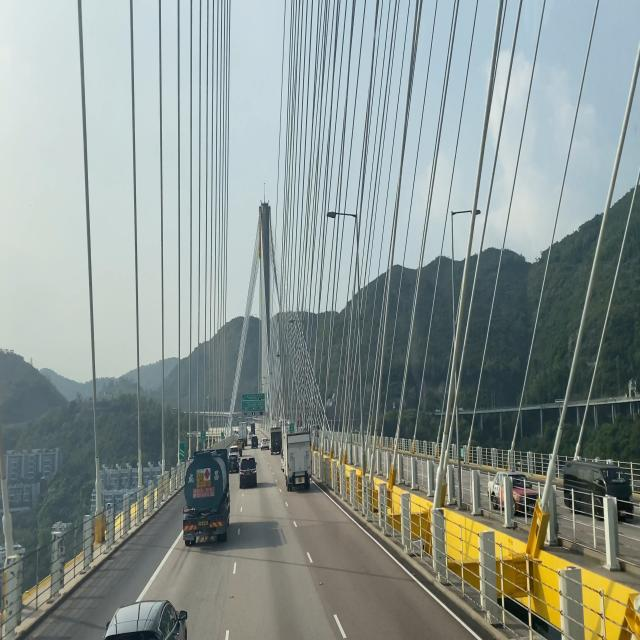Car: (183, 447, 234, 554), (280, 426, 316, 500), (237, 456, 262, 492)
